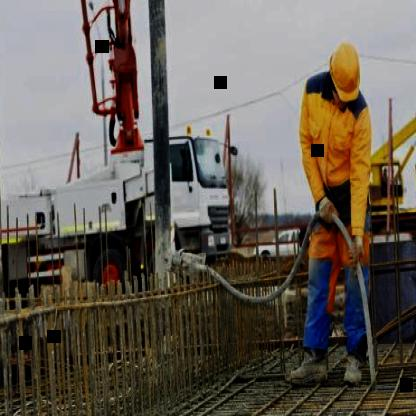helmet: (326, 32, 366, 112)
